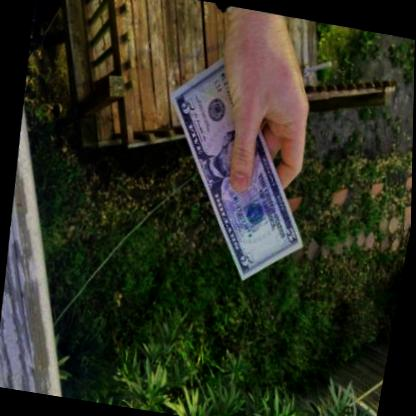five-front: (168, 52, 300, 279)
